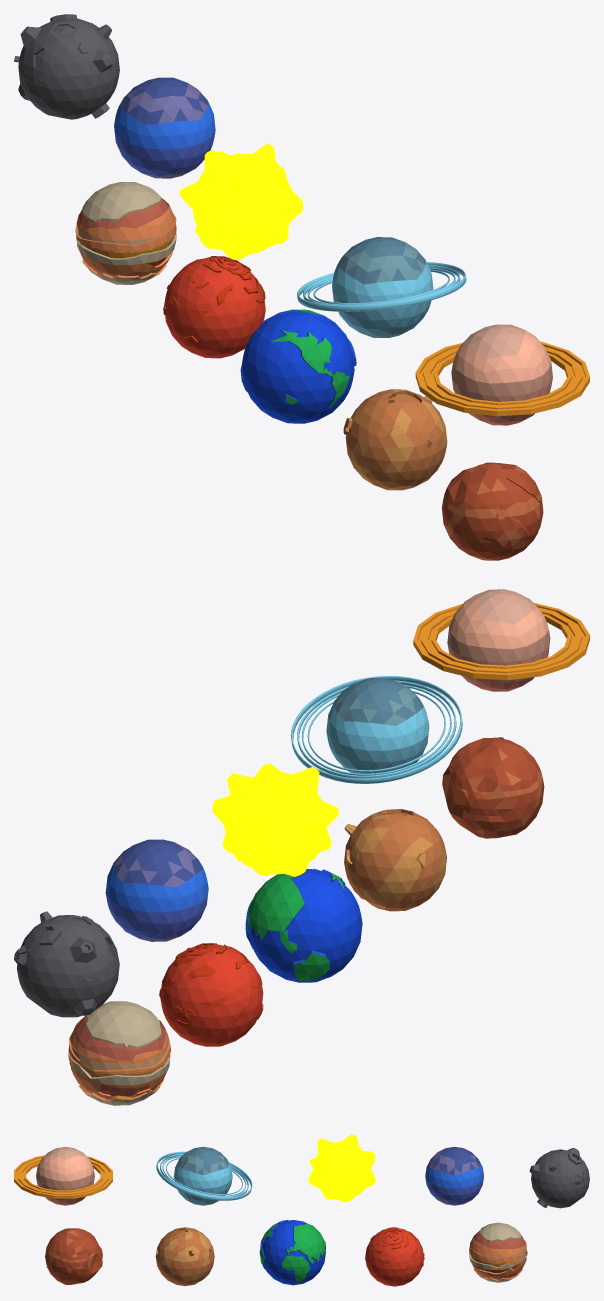
The model's file is Planetas.glb.
The picture shows the model from 3 angles, top to bottom: view 1: azimuth 30°, elevation 25°; view 2: azimuth 150°, elevation 25°; view 3: azimuth 270°, elevation 25°; orthographic projection. The views are drawn at different scales.
Visible parts, largest first — view 1: planeta tierra, Esfera geodésica.002, luna, jupiter, mercurio, marte, Esfera geodésica.001, venus, Esfera geodésica, Saturno, Aro saturno, Círculo_Bezier; view 2: planeta tierra, Esfera geodésica.002, jupiter, marte, luna, mercurio, Esfera geodésica.001, venus, Esfera geodésica, Saturno, Aro saturno, Círculo_Bezier (+3 smaller); view 3: planeta tierra, Esfera geodésica.002, luna, jupiter, marte, Esfera geodésica.001, mercurio, venus, Esfera geodésica, Saturno, Aro saturno, Círculo_Bezier (+3 smaller).
Part boxes in pixels (box(x1,y1,x2,y2)): planeta tierra: box(240, 309, 356, 423); Esfera geodésica.002: box(179, 143, 303, 260); luna: box(14, 14, 119, 119); jupiter: box(75, 182, 176, 284); mercurio: box(343, 389, 447, 490); marte: box(163, 256, 265, 358); Esfera geodésica.001: box(114, 77, 215, 178); venus: box(442, 462, 543, 560); Esfera geodésica: box(332, 237, 433, 337); Saturno: box(451, 324, 552, 425); Aro saturno: box(415, 341, 589, 416); Círculo_Bezier: box(297, 262, 466, 311); planeta tierra: box(245, 868, 362, 982); Esfera geodésica.002: box(212, 764, 338, 876); jupiter: box(68, 1001, 170, 1105); marte: box(159, 943, 263, 1046); luna: box(14, 911, 119, 1017); mercurio: box(344, 809, 446, 911); Esfera geodésica.001: box(105, 839, 208, 941); venus: box(442, 737, 544, 838); Esfera geodésica: box(326, 678, 429, 773); Saturno: box(447, 589, 550, 691); Aro saturno: box(413, 603, 589, 680); Círculo_Bezier: box(291, 676, 462, 783); planeta tierra: box(259, 1220, 325, 1285); Esfera geodésica.002: box(308, 1134, 375, 1202); luna: box(529, 1148, 589, 1208); jupiter: box(469, 1222, 527, 1282); marte: box(365, 1227, 424, 1286); Esfera geodésica.001: box(425, 1146, 483, 1205); mercurio: box(155, 1227, 214, 1286); venus: box(45, 1228, 102, 1284); Esfera geodésica: box(173, 1146, 232, 1205); Saturno: box(36, 1146, 94, 1205); Aro saturno: box(14, 1155, 112, 1198); Círculo_Bezier: box(156, 1151, 252, 1200).
Bounding box in the file's own units: 3.36 × 5.17 × 19.52.
